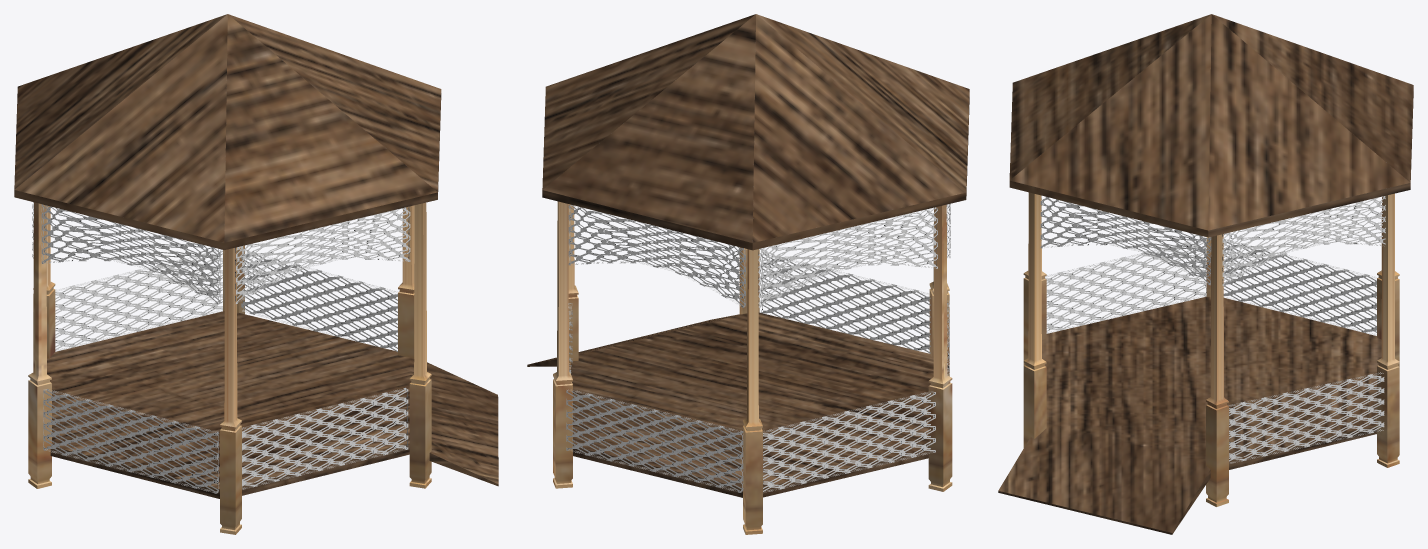
File: Arbor.fbx
The picture shows the model from 3 angles, left to right: view 1: azimuth 30°, elevation 25°; view 2: azimuth 150°, elevation 25°; view 3: azimuth 270°, elevation 25°; orthographic projection. The views are drawn at different scales.
Visible parts, largest first — view 1: Arbor, FencesArbor; view 2: Arbor, FencesArbor; view 3: Arbor, FencesArbor.
Part boxes in pixels (left/top/right/bottom): Arbor: left=14, top=14, right=498, bottom=534; FencesArbor: left=32, top=202, right=410, bottom=493; Arbor: left=527, top=14, right=969, bottom=534; FencesArbor: left=566, top=203, right=950, bottom=492; Arbor: left=998, top=14, right=1413, bottom=534; FencesArbor: left=1040, top=196, right=1385, bottom=463.
Size of the model in its own units: 352 by 312 by 290.
2 materials, 2 textured.
